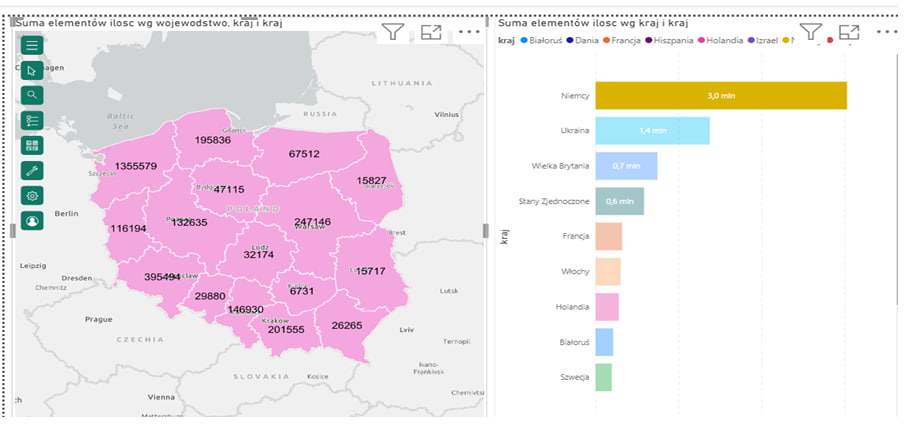

This screenshot's page, from the dashboard's own definition file:
{"tool":"powerbi","page":{"name":"hipoteza 3","canvas":[1280,720],"ordinal":2},"visuals":[{"type":"esriVisual","fields":{"Size":["Sum(zagr_1.ilosc)"],"Location":["Tabela 2.wojewodstwo"],"Color":["zagr_1.kraj"],"Time":["Tabela 3.kraj"]},"box":[10.5,0,675.5,719.7],"z":0},{"type":"barChart","fields":{"Category":["zagr_1.kraj"],"Y":["Sum(zagr_1.ilosc)"],"Series":["Tabela 3.kraj"]},"box":[696.6,0,582.9,719.7],"z":1000}]}

Visuals, with their boxes on the page's 1280x720 design canvas (x1, y1, x2, y2). These are canvas units, not pixel positions in the 912x430 screenshot, which may show the page scaled, cropped or inside an application window:
esriVisual - Sum(zagr_1.ilosc) x Tabela 2.wojewodstwo: region(10, 0, 686, 720)
barChart - zagr_1.kraj x Sum(zagr_1.ilosc): region(697, 0, 1280, 720)
